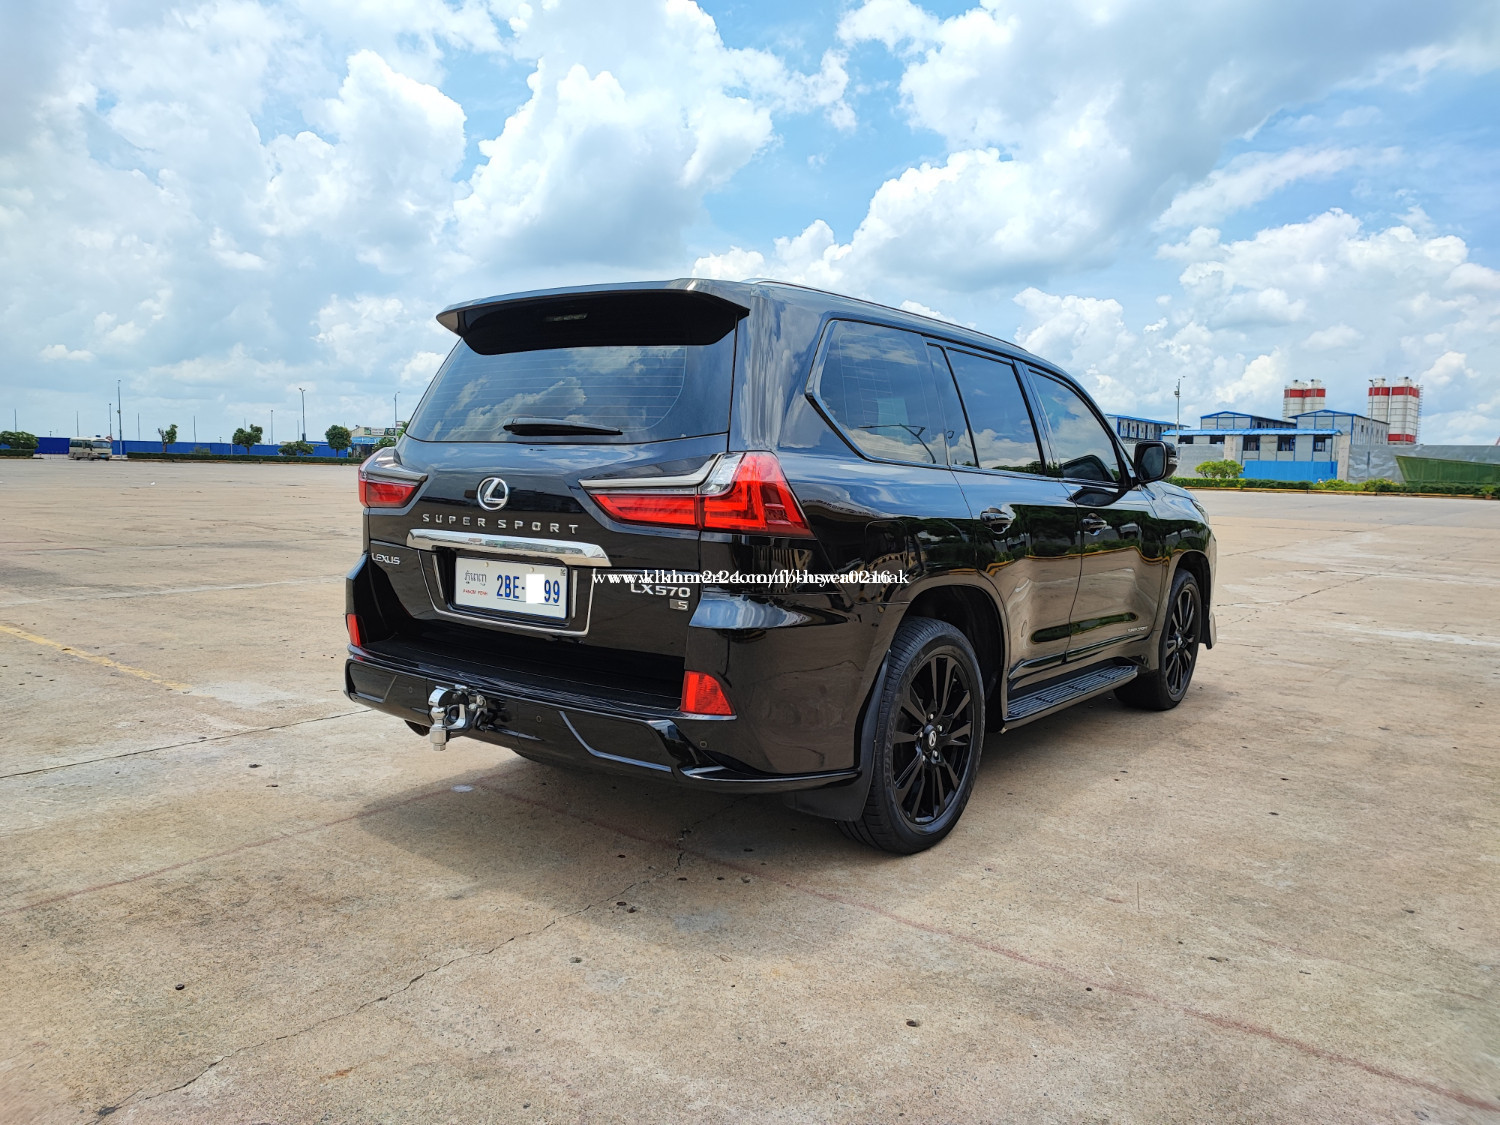car: (322, 271, 1226, 867)
